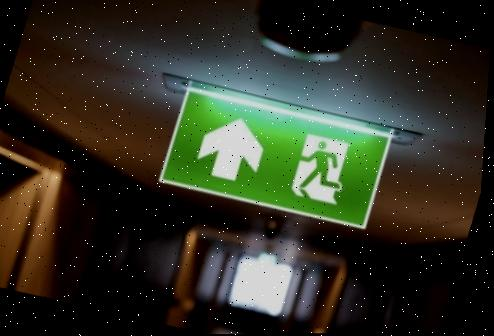emergency_exit: (157, 72, 417, 231)
